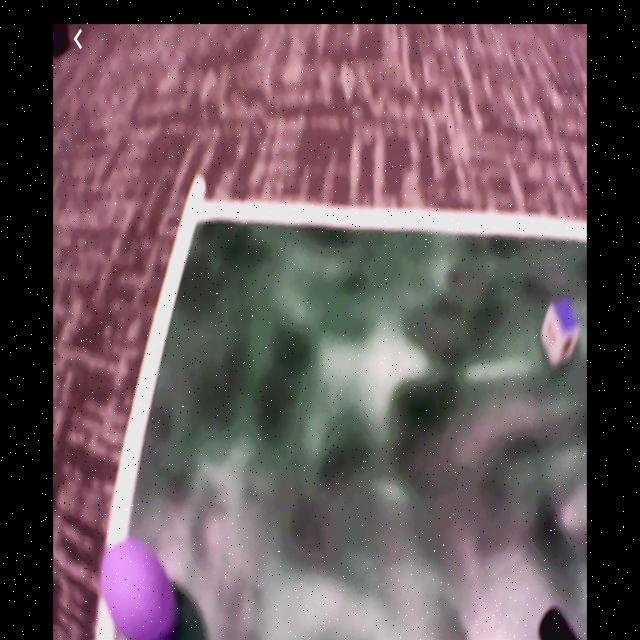ball: (101, 542, 178, 640)
